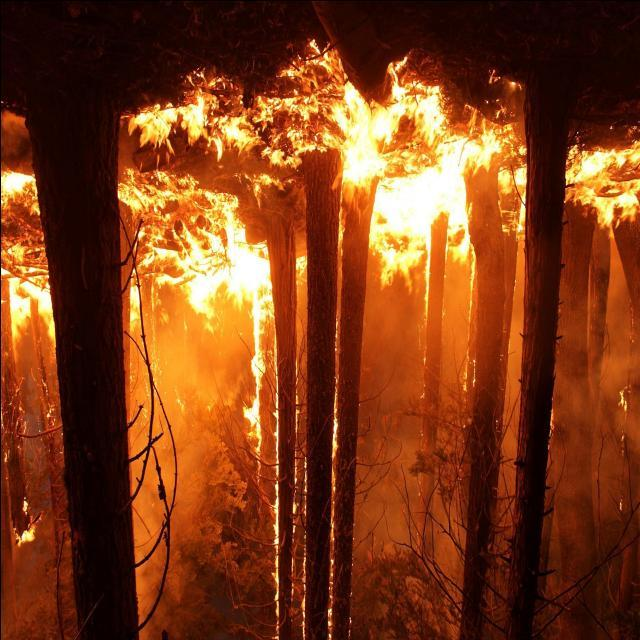Fire: (0, 80, 292, 598), (342, 86, 639, 296)
